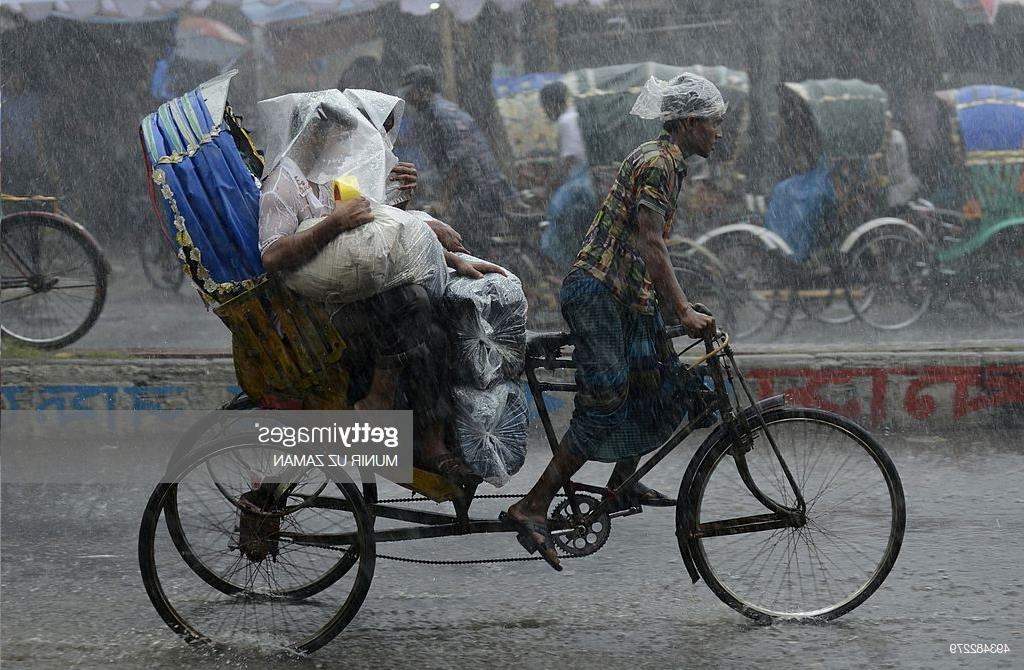Rickshaw: (129, 69, 905, 615), (560, 45, 766, 331), (758, 67, 921, 342), (470, 35, 596, 278), (935, 64, 1016, 323), (5, 178, 111, 356)
